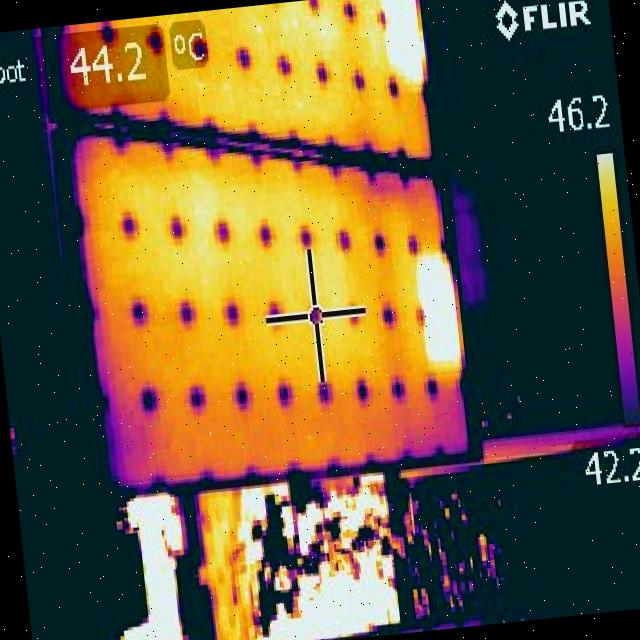Hotspot: (412, 250, 464, 368), (376, 0, 428, 90)
